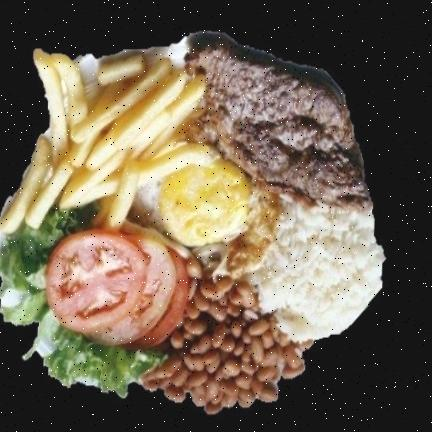beans: (134, 260, 316, 411)
egg: (132, 158, 288, 278)
meat: (188, 33, 371, 213)
potato: (0, 50, 216, 231)
rice: (253, 197, 382, 341)
salad: (0, 204, 167, 398)
tomato: (45, 231, 190, 350)
